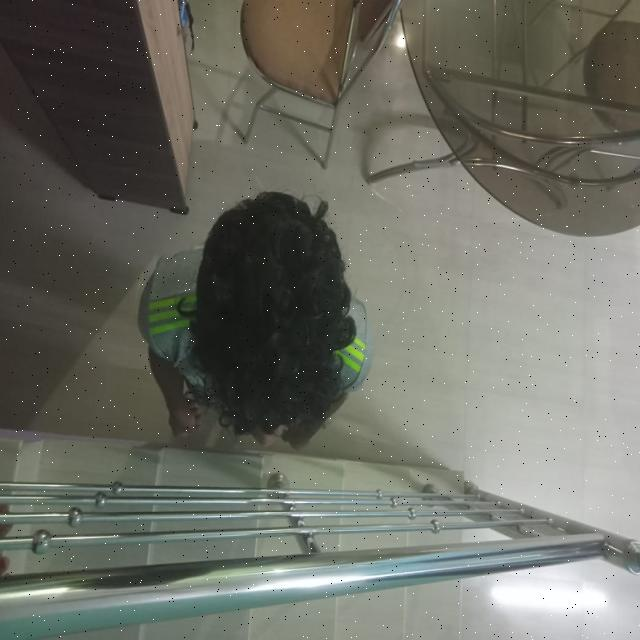humans: (130, 182, 388, 466)
